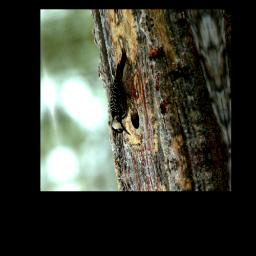Woodpecker: (93, 39, 149, 143)
